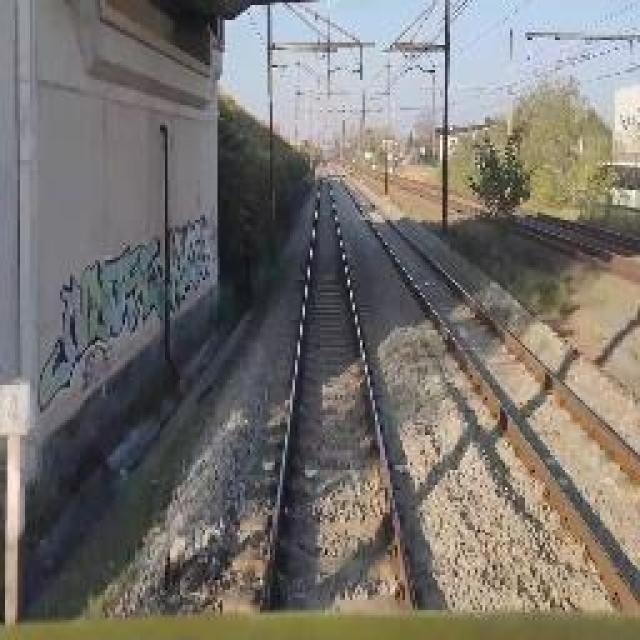rail: (328, 166, 640, 614), (215, 158, 462, 624)
